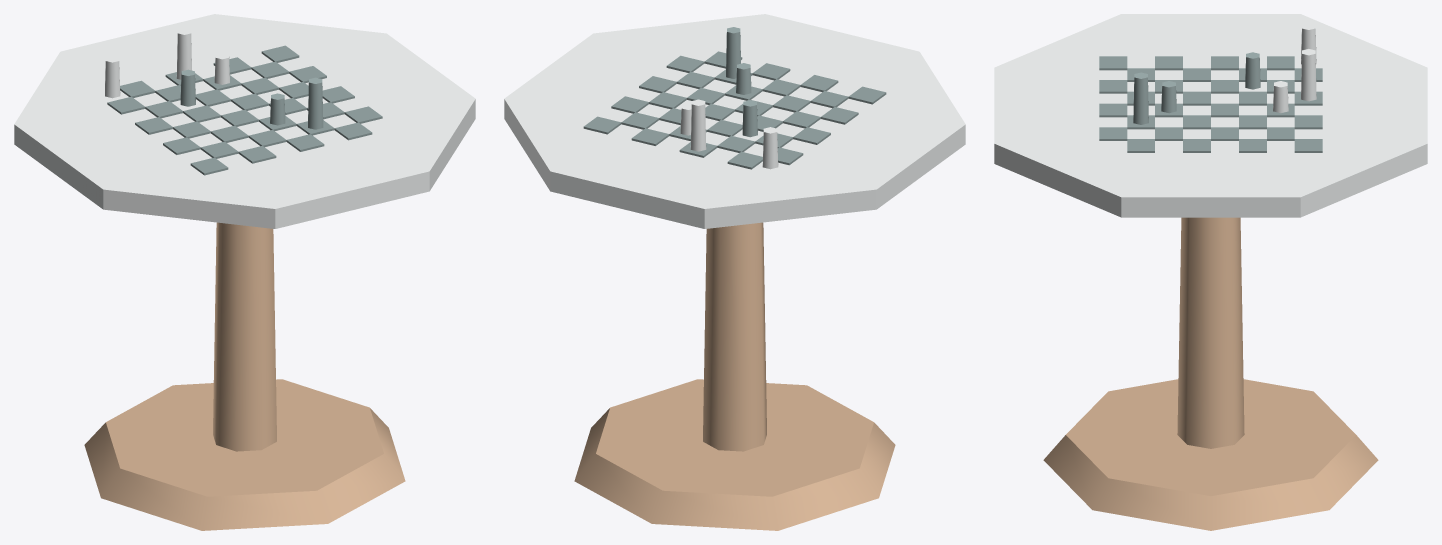
Rendered from chessTableMarble.glb.
3 views of the same model, side by side, from view 1: azimuth 30°, elevation 25°; view 2: azimuth 150°, elevation 25°; view 3: azimuth 270°, elevation 25° (orthographic).
Visible parts, largest first — view 1: chessTableMarble; view 2: chessTableMarble; view 3: chessTableMarble.
Boxes of the visible parts, box(x1,y1,x2,y2) form: chessTableMarble: box(14, 14, 475, 530); chessTableMarble: box(504, 14, 965, 530); chessTableMarble: box(994, 14, 1427, 530).
Bounding box in the file's own units: 0.388 × 0.397 × 0.388.
